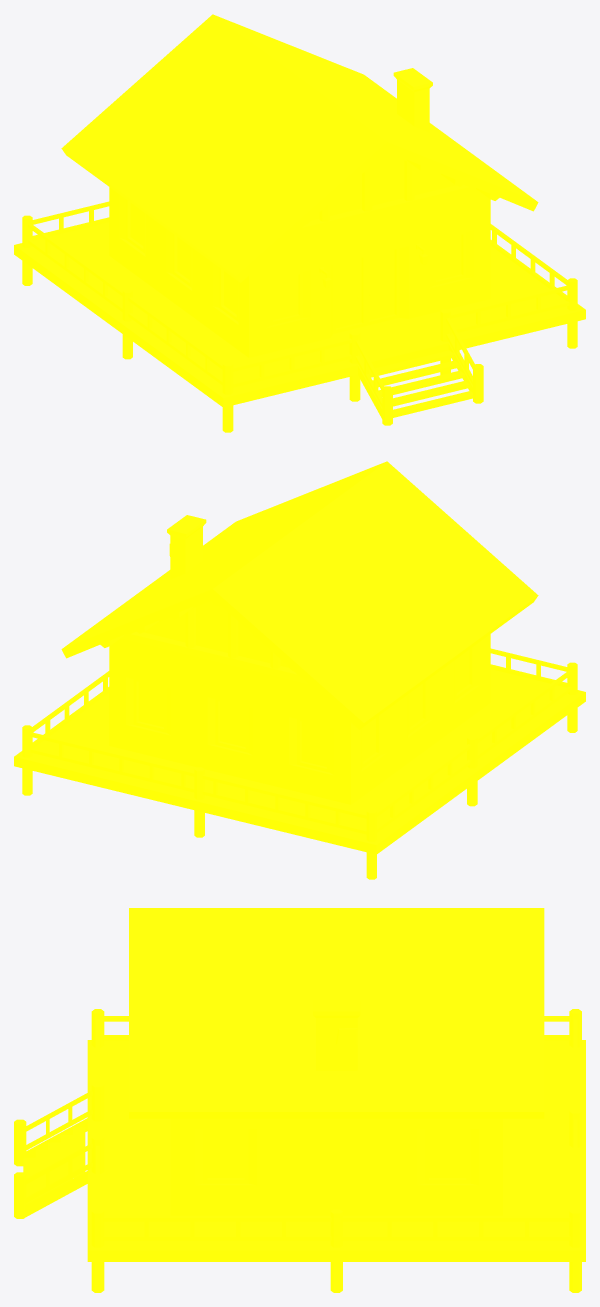
File: building-cabin-big.glb
3 renders of one model, top to bottom at view 1: azimuth 30°, elevation 25°; view 2: azimuth 150°, elevation 25°; view 3: azimuth 270°, elevation 25°, orthographic. The views are drawn at different scales.
Visible parts, largest first — view 1: building-cabin-big; view 2: building-cabin-big; view 3: building-cabin-big.
Part boxes in pixels (x1,y1,x2,y2): building-cabin-big: (14,14,585,432); building-cabin-big: (14,461,585,879); building-cabin-big: (14,908,585,1292).
Bounding box in the file's own units: 12 × 7.5 × 13.77.
Materials: 1 (1 with a texture image).
